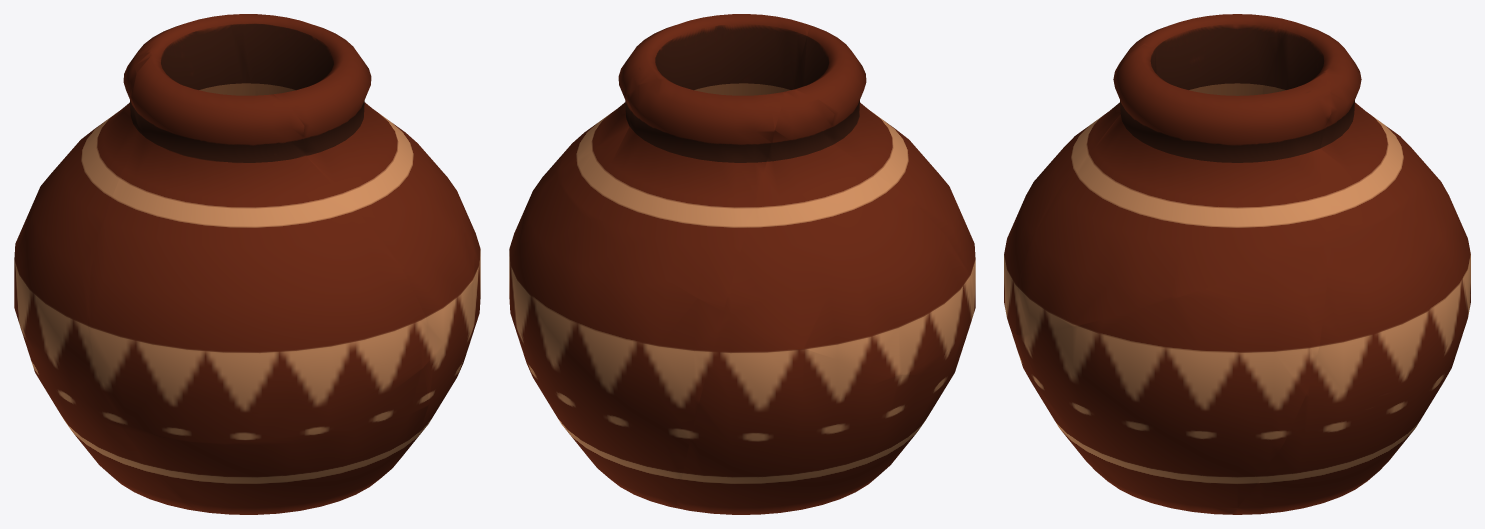
Rendered from Pot.fbx.
3 renders of one model, left to right at view 1: azimuth 30°, elevation 25°; view 2: azimuth 150°, elevation 25°; view 3: azimuth 270°, elevation 25°, orthographic.
Parts seen in each view (by area): view 1: Pieces_8, Pieces_6, Pieces_4, Pieces_7, Pieces_3, Pieces_5, Pieces_2; view 2: Pieces_7, Pieces_1, Pieces_3, Pieces_5, Pieces_6, Pieces_8; view 3: Pieces_6, Pieces_2, Pieces_1, Pieces_5, Pieces_8, Pieces_4, Pieces_7.
Part boxes in pixels (box(x1,y1,x2,y2)): Pieces_8: box(87, 56, 432, 443); Pieces_6: box(157, 14, 474, 355); Pieces_4: box(120, 357, 433, 514); Pieces_7: box(14, 53, 155, 420); Pieces_3: box(14, 291, 198, 511); Pieces_5: box(93, 14, 255, 129); Pieces_2: box(397, 173, 480, 462); Pieces_7: box(723, 89, 971, 375); Pieces_1: box(509, 174, 723, 507); Pieces_3: box(676, 312, 958, 514); Pieces_5: box(556, 79, 786, 311); Pieces_6: box(556, 14, 810, 173); Pieces_8: box(793, 25, 975, 318); Pieces_6: box(1018, 25, 1331, 334); Pieces_2: box(1023, 244, 1326, 514); Pieces_1: box(1229, 182, 1470, 514); Pieces_5: box(1282, 20, 1441, 244); Pieces_8: box(1004, 14, 1284, 334); Pieces_4: box(1011, 332, 1124, 491); Pieces_7: box(1262, 19, 1289, 94).
Bounding box in the file's own units: 4.52 × 4.26 × 4.52.
Materials: 9 (8 with a texture image).
